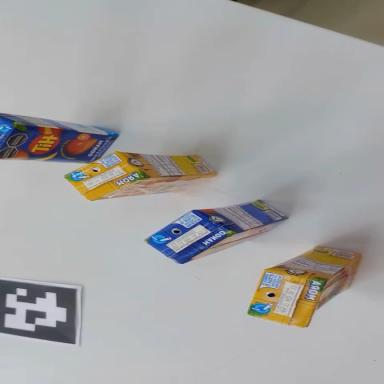HIT-MANGO: (142, 180, 289, 273), (0, 113, 119, 174)
HIT-MORA: (247, 223, 363, 345), (63, 140, 218, 203)
cara_F: (0, 123, 118, 173), (294, 253, 371, 327), (181, 214, 290, 263), (90, 169, 216, 200)
